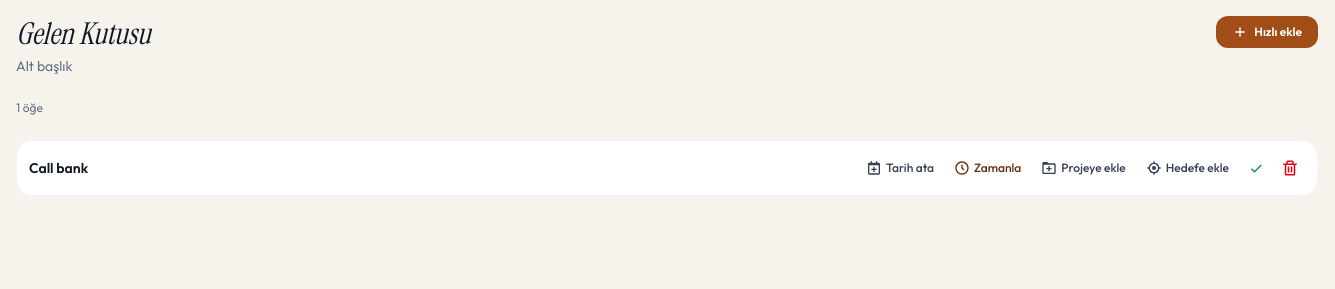
Test case: InboxPage › moves the default date to the new Istanbul day after midnight without a remount
Click the button "Tarih ata" at (900, 168), box 858,156 -> 942,180
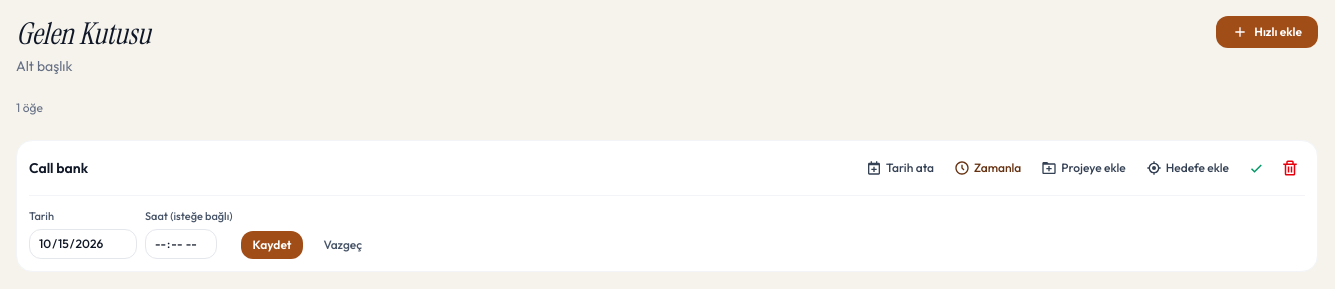
expect the date field labelled "Tarih" holds "2026-10-15": met, box 29,228 -> 137,258
